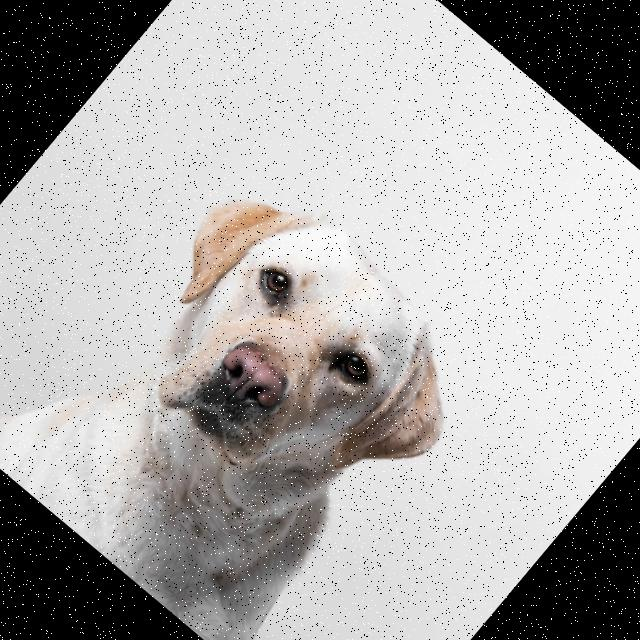Dog: (0, 117, 505, 640)
